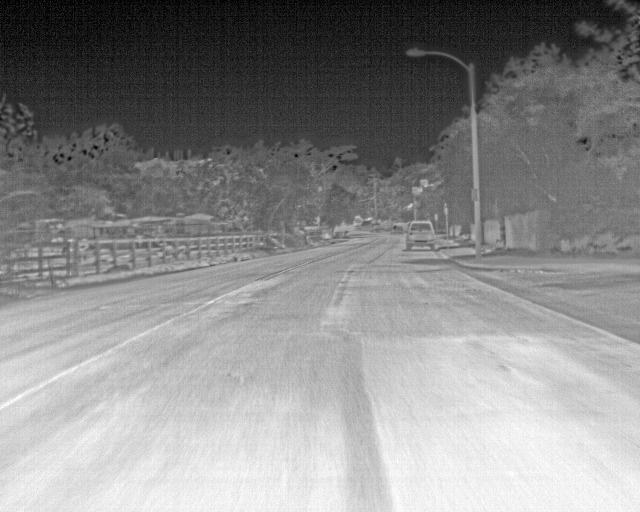car: (403, 220, 437, 252)
